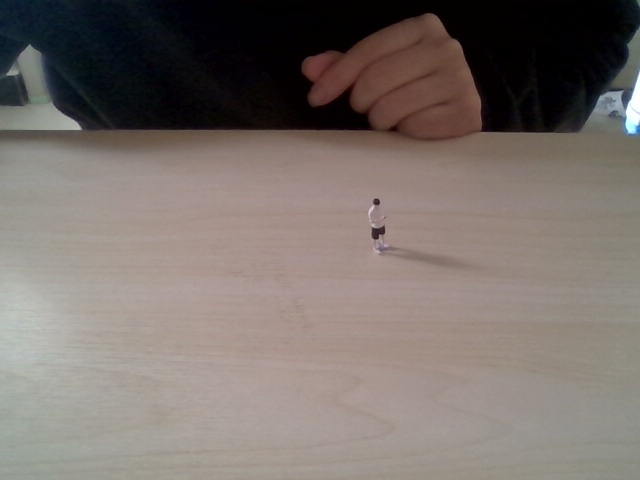walk: (366, 196, 391, 257)
